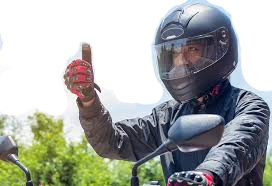com_capacete: (151, 1, 238, 106)
